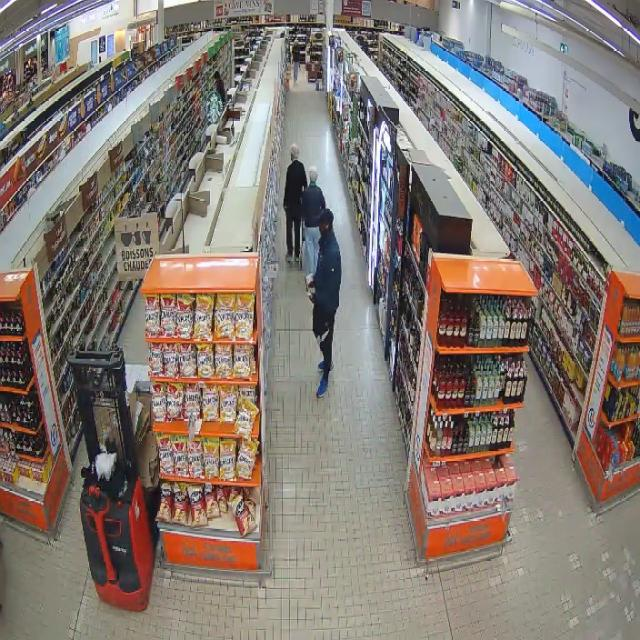hands: (305, 280, 314, 291), (309, 294, 315, 304)
person: (310, 208, 340, 397), (284, 145, 307, 263), (302, 167, 326, 275)
